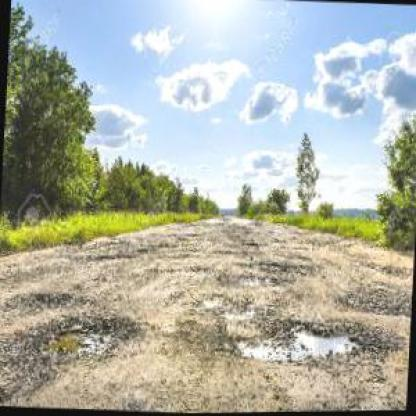pothole: (223, 311, 387, 370), (19, 307, 136, 370), (21, 284, 75, 315)
